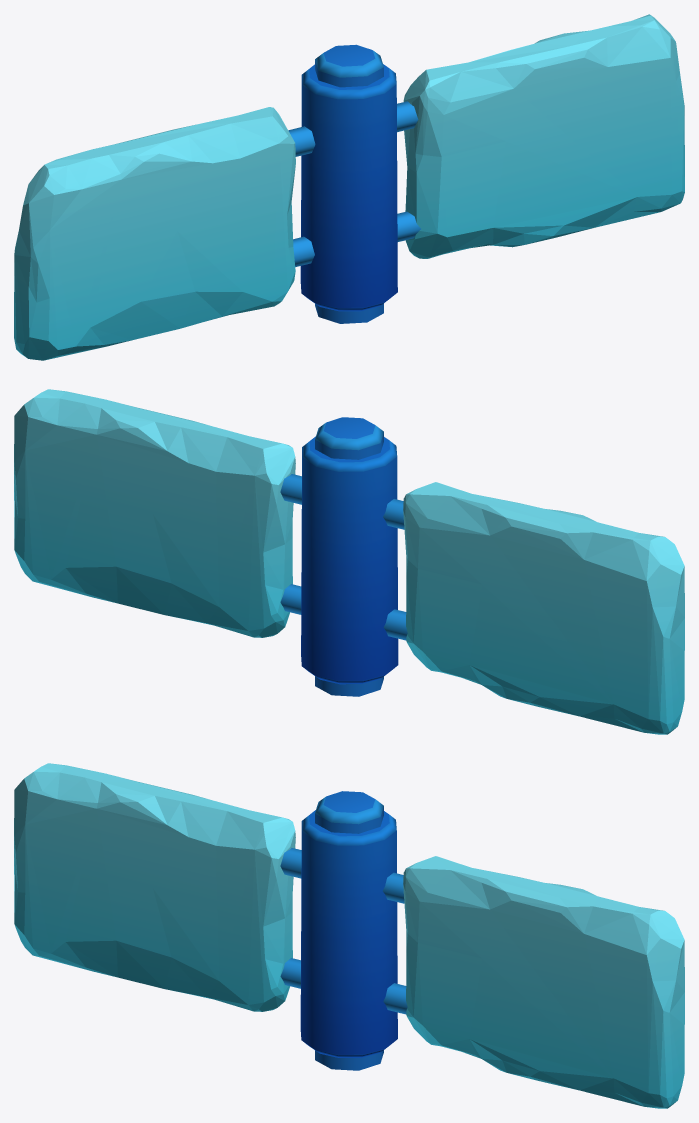
Rendered from obstacle_13_001.fbx.
3 views of the same model, one above another, from view 1: azimuth 30°, elevation 25°; view 2: azimuth 150°, elevation 25°; view 3: azimuth 330°, elevation 25° (orthographic).
Parts seen in each view (by area): view 1: obstacle_13_001; view 2: obstacle_13_001; view 3: obstacle_13_001.
Boxes of the visible parts, box(x1,y1,x2,y2) form: obstacle_13_001: box(14, 14, 684, 360); obstacle_13_001: box(14, 389, 684, 734); obstacle_13_001: box(14, 763, 684, 1108).
Size of the model in its own units: 551 by 70.42 by 203.
